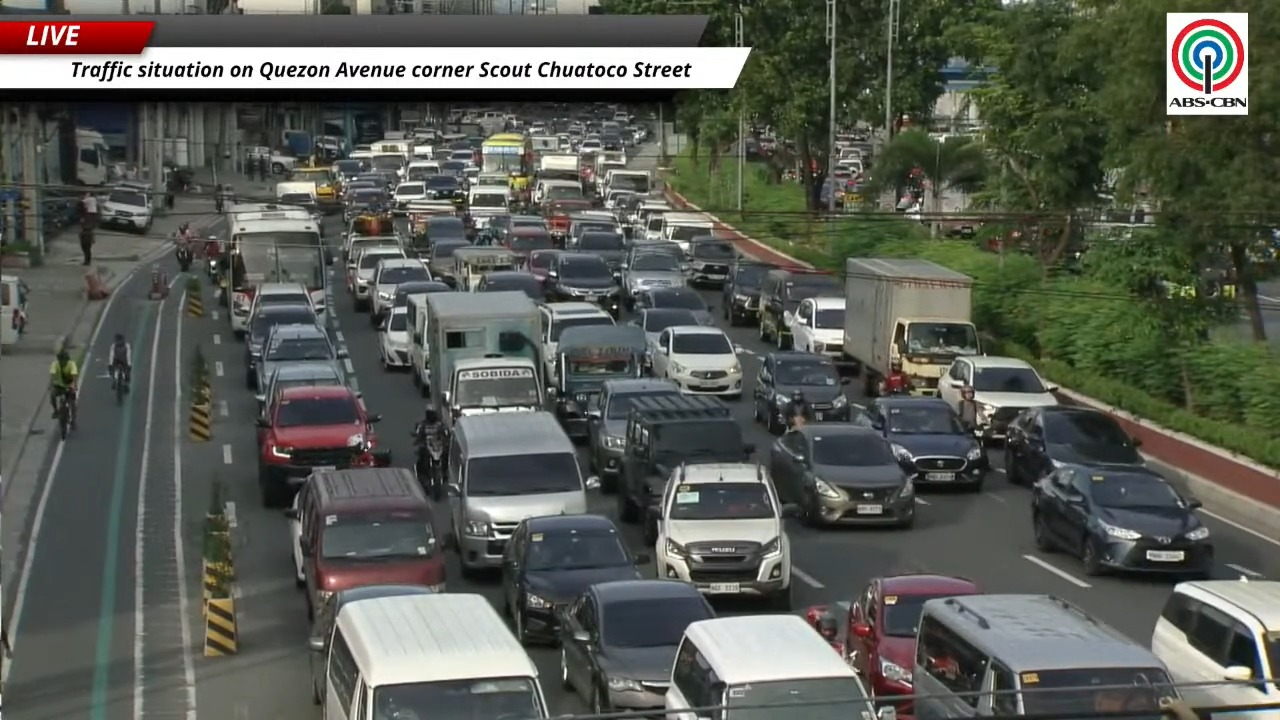bus: (224, 205, 330, 335), (480, 133, 533, 183), (288, 167, 337, 210)
car: (654, 463, 796, 610), (616, 393, 754, 543), (559, 579, 714, 711), (1032, 465, 1213, 578), (501, 514, 647, 642), (842, 573, 980, 701), (1151, 577, 1279, 707), (257, 386, 389, 507), (769, 424, 915, 527), (308, 584, 434, 703), (864, 397, 989, 491), (1004, 405, 1145, 484), (587, 378, 680, 493), (938, 356, 1058, 440), (753, 351, 850, 434), (759, 269, 843, 348), (652, 325, 742, 398), (244, 304, 319, 387), (539, 302, 615, 383), (251, 325, 345, 389), (255, 362, 346, 416), (545, 252, 619, 316), (790, 297, 855, 368), (370, 257, 432, 325), (348, 245, 405, 311), (632, 308, 698, 364), (621, 251, 685, 308), (722, 257, 775, 325), (343, 234, 402, 289), (540, 180, 591, 243), (247, 283, 324, 324), (635, 287, 713, 325), (99, 184, 153, 232), (573, 231, 625, 280), (687, 236, 735, 286), (421, 238, 470, 285), (566, 211, 622, 248), (475, 271, 544, 301), (378, 307, 409, 370), (488, 214, 547, 245), (391, 280, 451, 308), (505, 226, 555, 257), (526, 250, 561, 292), (344, 186, 387, 219), (424, 215, 467, 244), (423, 172, 463, 200), (393, 181, 427, 213)
motorcycle: (412, 419, 445, 500), (204, 237, 221, 279), (175, 243, 192, 272)
truck: (843, 258, 981, 396), (425, 291, 544, 431), (75, 127, 110, 185), (536, 153, 580, 182)
